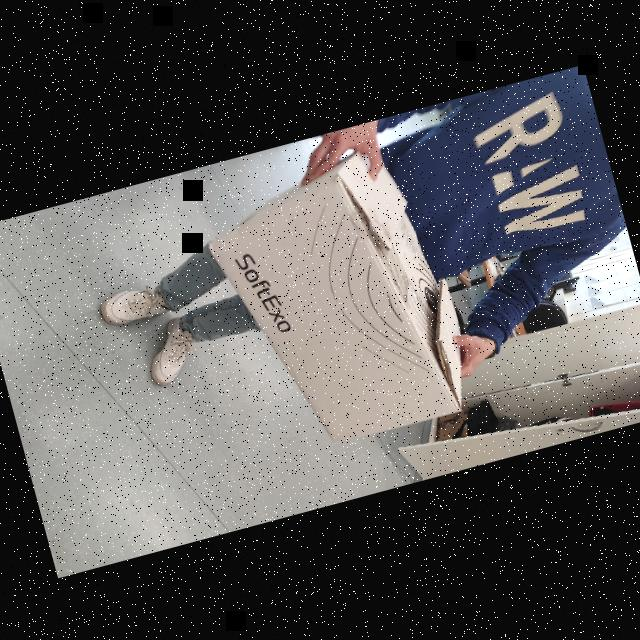cardboard_box: (201, 126, 491, 466)
